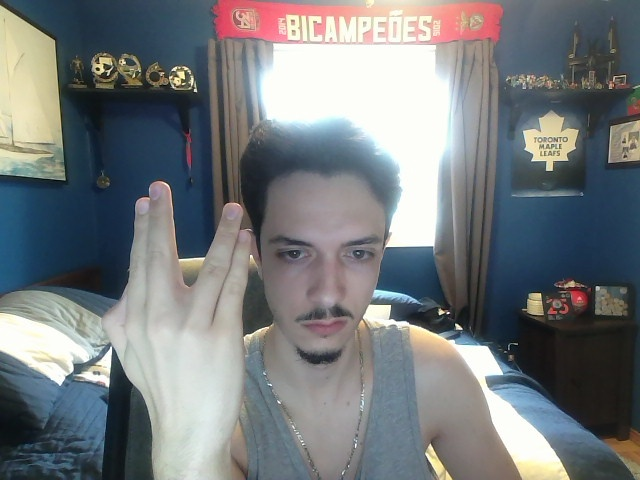LiveLong: (101, 180, 251, 448)
